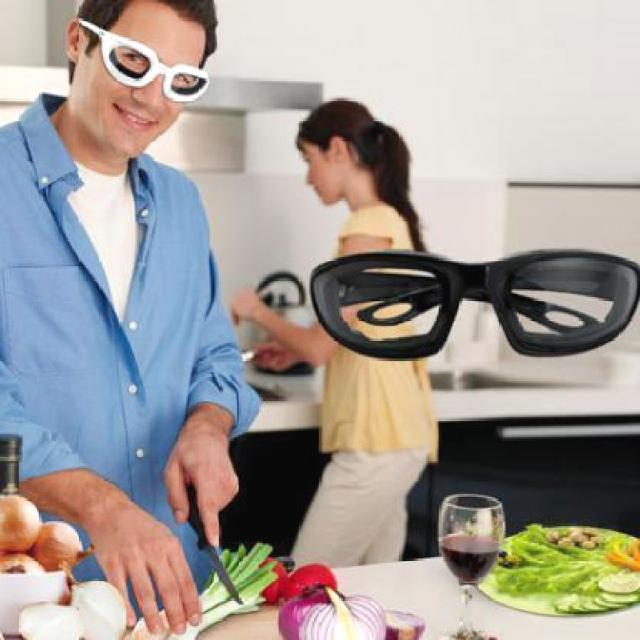face_nomask: (104, 32, 207, 136), (294, 141, 332, 207)
glasses: (308, 243, 640, 364), (74, 13, 211, 107)
hand_noglove: (77, 495, 206, 636), (163, 428, 242, 548), (228, 282, 274, 332)
head_nohelmet: (296, 85, 379, 141)
person: (0, 0, 265, 640), (278, 96, 437, 575)
